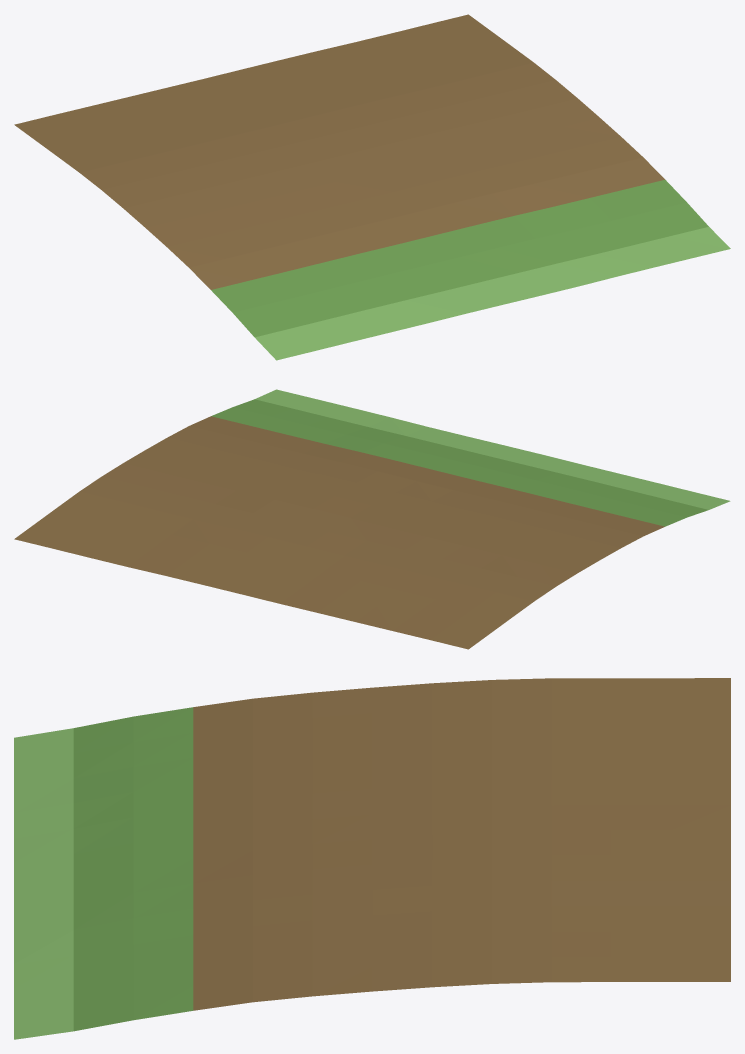
File: chunk_0_-1.obj
3 renders of one model, top to bottom at view 1: azimuth 30°, elevation 25°; view 2: azimuth 150°, elevation 25°; view 3: azimuth 270°, elevation 25°, orthographic. The views are drawn at different scales.
Visible parts, largest first — view 1: dirt, grass_a, grass_b; view 2: dirt, grass_a, grass_b; view 3: dirt, grass_a, grass_b.
Part boxes in pixels (bbox=[...]): dirt: bbox=[14, 14, 664, 289]; grass_a: bbox=[211, 179, 708, 337]; grass_b: bbox=[255, 227, 730, 360]; dirt: bbox=[14, 416, 664, 649]; grass_a: bbox=[211, 399, 708, 526]; grass_b: bbox=[255, 389, 730, 509]; dirt: bbox=[193, 678, 730, 1010]; grass_a: bbox=[73, 707, 193, 1031]; grass_b: bbox=[14, 728, 73, 1039].
Bounding box in the file's own units: 16 × 1.47 × 16.
